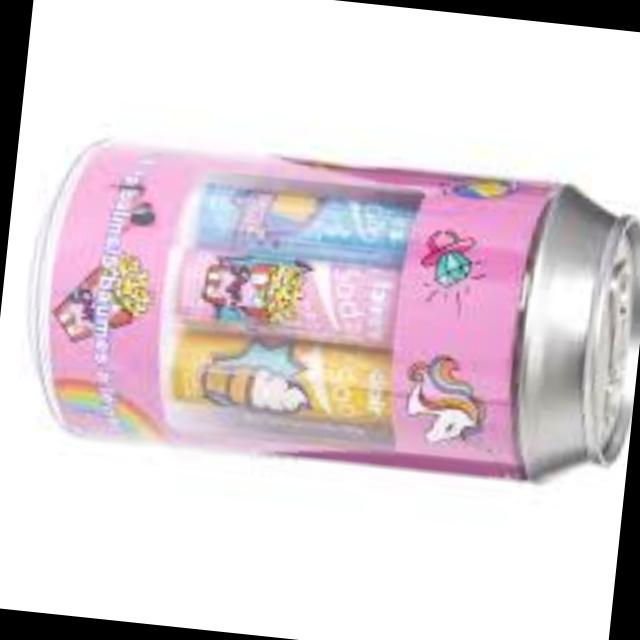metal: (43, 143, 640, 476)
